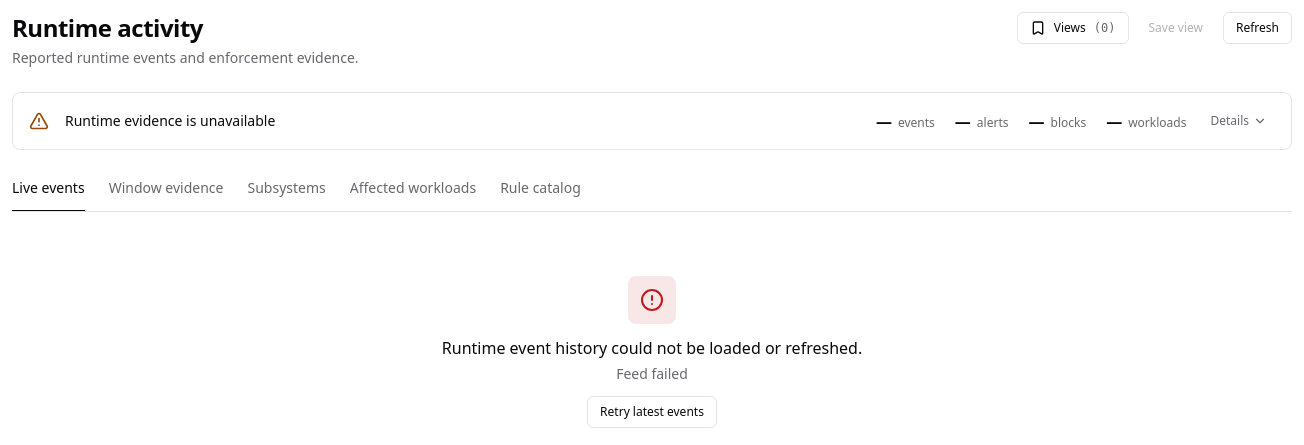
Test case: surfaces overview and live errors with retry instead of empty success
Click the button "Retry latest events" at (652, 412), box [587, 396, 717, 428]
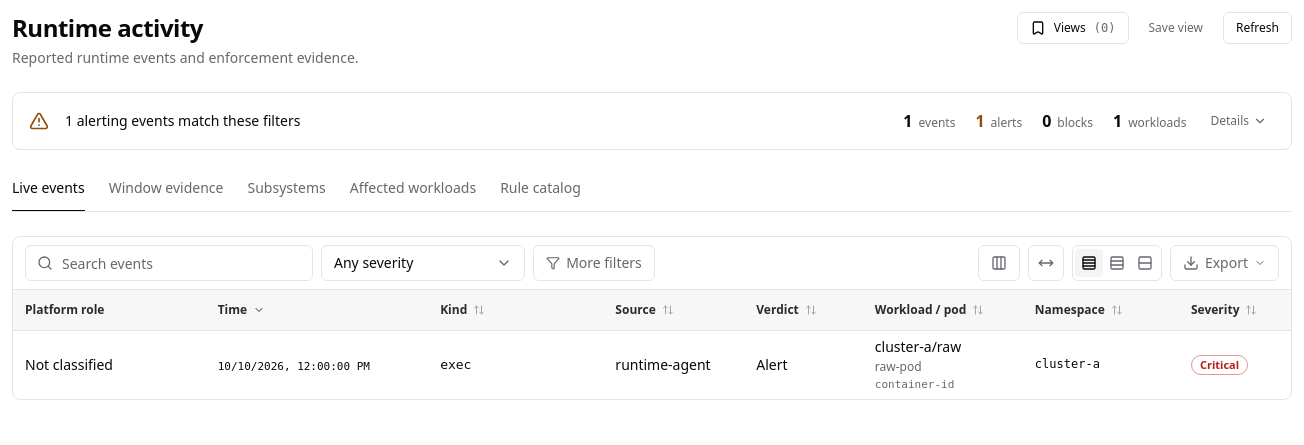
Now the element with test id "runtime-live-table" is shown, box [12, 236, 1292, 400]
